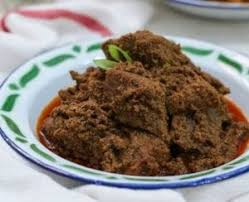rendang: (33, 26, 249, 186)
